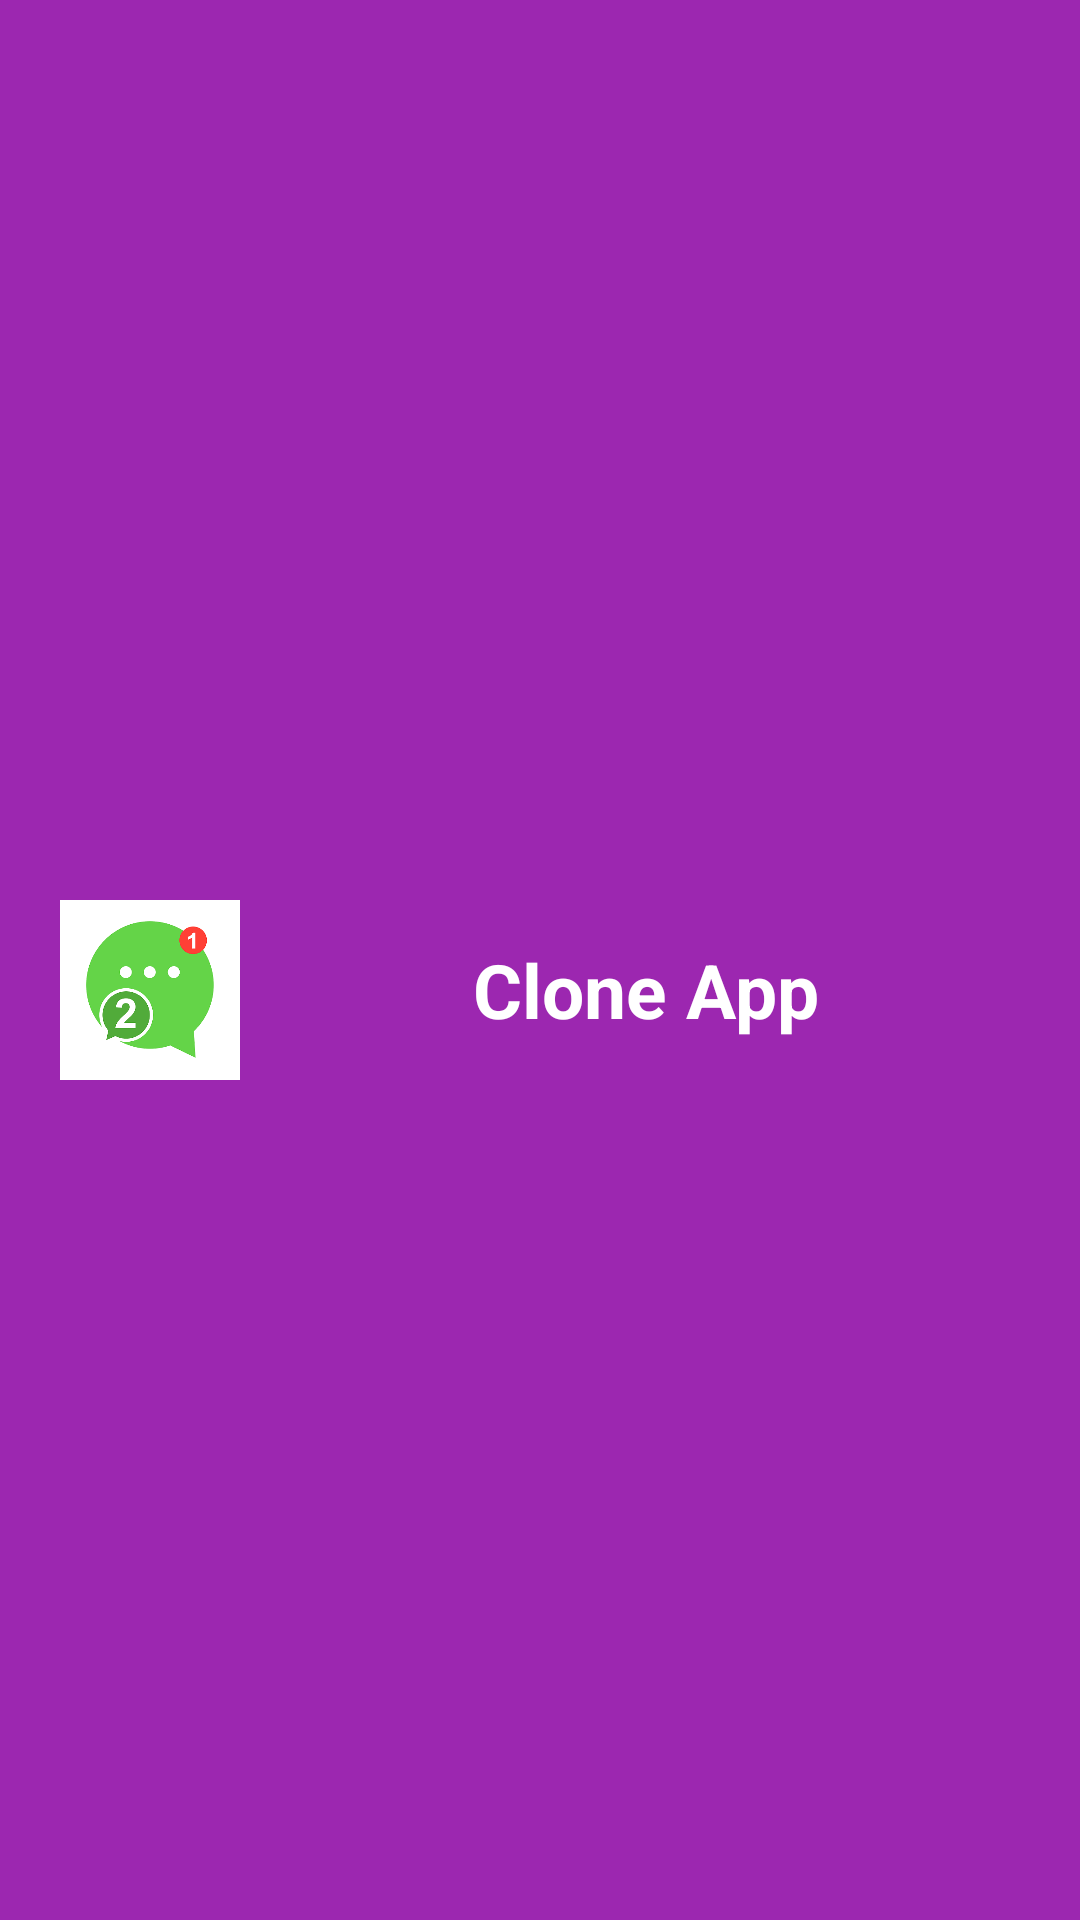

Screen size 1080 x 1920. Icon name, then its box in pixels as (x1, y1, x2, y2):
item app: (60, 900, 240, 1080)
